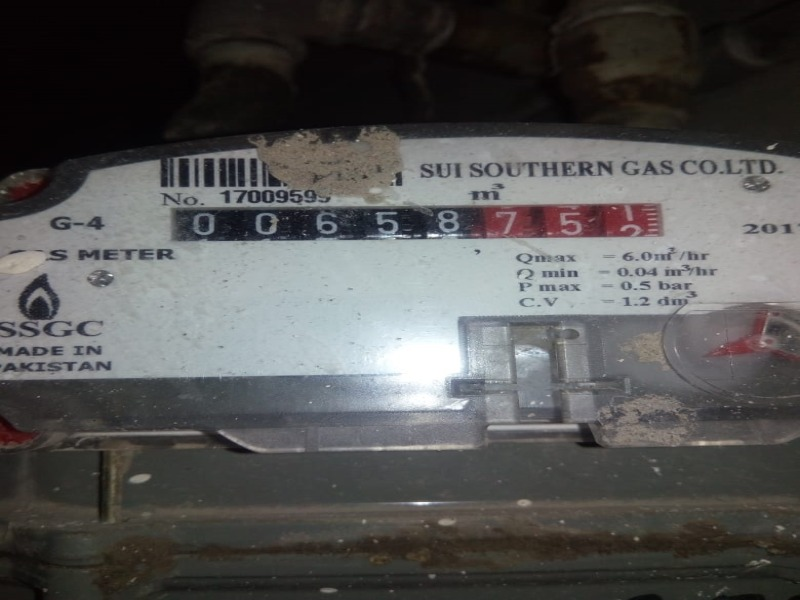ssgc: (166, 198, 666, 249)
